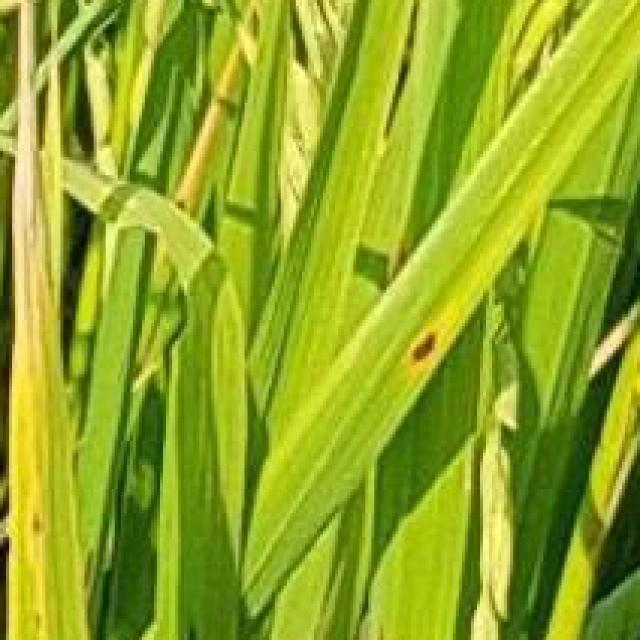Brown_Spot: (395, 314, 441, 368)
